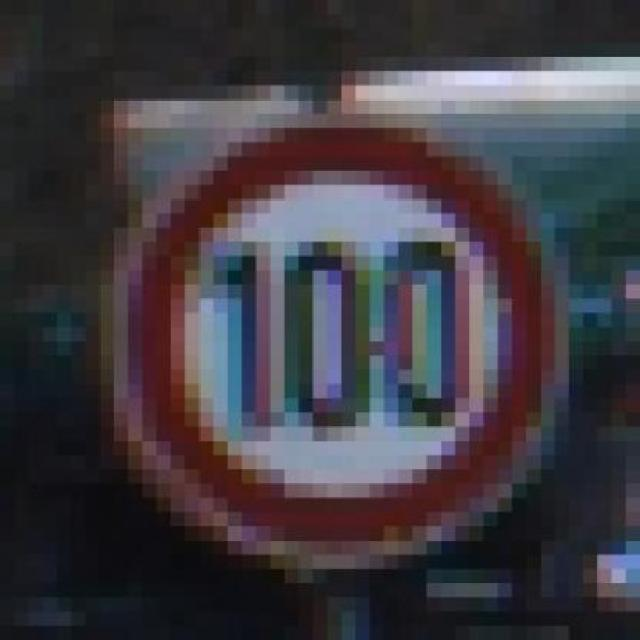forb_speed_over_100: (125, 126, 547, 555)
